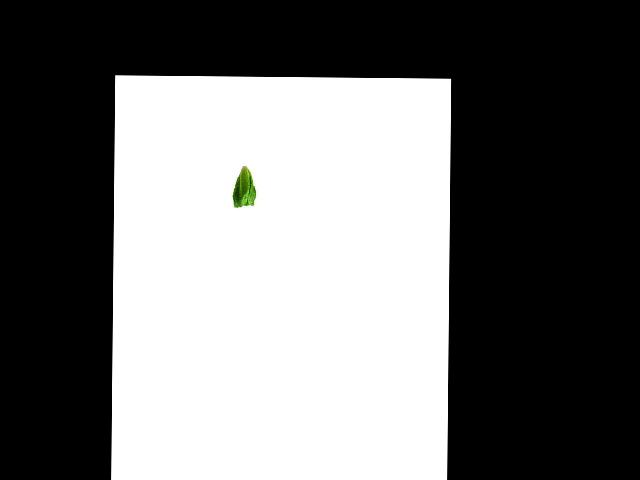lettuce: (229, 164, 260, 209)
